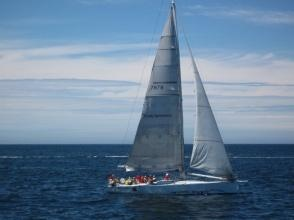fanchuan: (107, 2, 244, 192)
